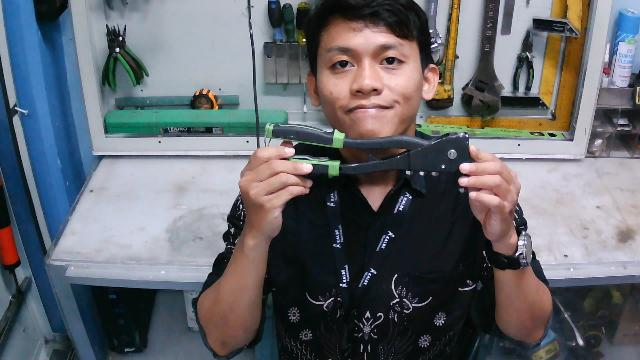tang_rivet: (261, 116, 478, 193)
